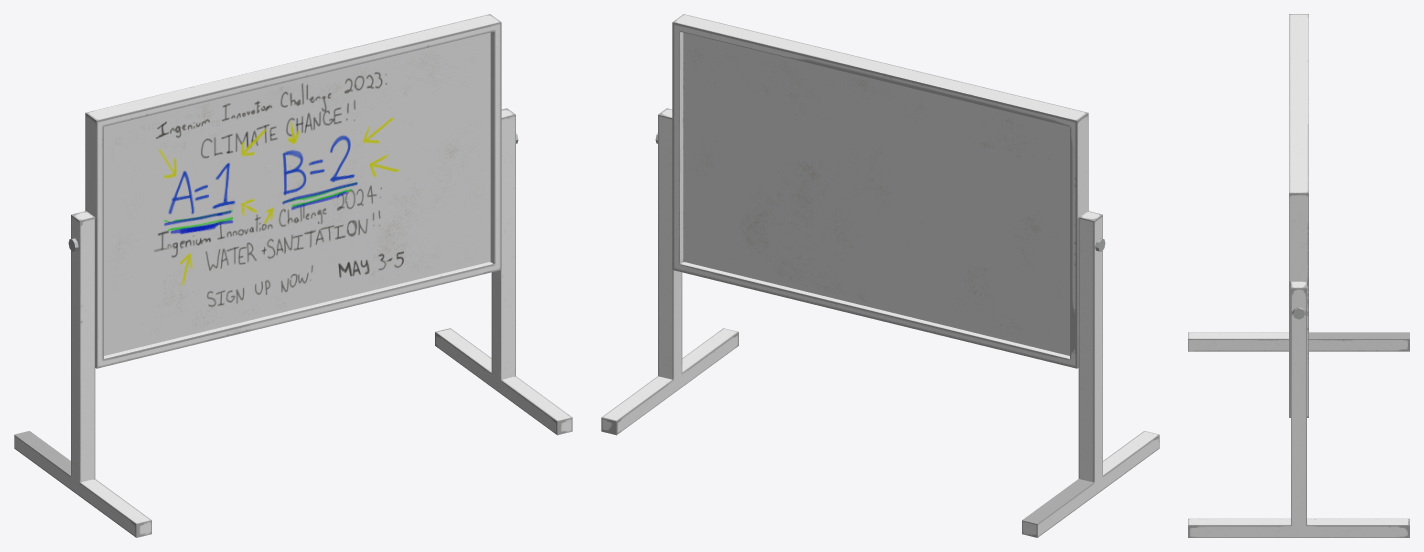
The model's file is whiteboardStand2_obj.glb.
3 views of the same model, side by side, from view 1: azimuth 30°, elevation 25°; view 2: azimuth 150°, elevation 25°; view 3: azimuth 270°, elevation 25° (orthographic). The views are drawn at different scales.
Visible parts, largest first — view 1: whiteboard_geo, hori_leg_R_geo, hori_leg_L_geo; view 2: whiteboard_geo, hori_leg_R_geo, hori_leg_L_geo; view 3: hori_leg_L_geo, whiteboard_geo, hori_leg_R_geo.
Boxes of the visible parts, x1,y1,x2,y2 form: whiteboard_geo: [85, 14, 501, 368]; hori_leg_R_geo: [14, 211, 151, 537]; hori_leg_L_geo: [435, 108, 572, 435]; whiteboard_geo: [672, 14, 1088, 368]; hori_leg_R_geo: [1022, 211, 1159, 537]; hori_leg_L_geo: [601, 108, 738, 435]; hori_leg_L_geo: [1188, 281, 1409, 537]; whiteboard_geo: [1289, 14, 1308, 417]; hori_leg_R_geo: [1188, 332, 1409, 351].
Size of the model in its own units: 2.68 by 2.15 by 1.28.
1 material, 1 textured.
